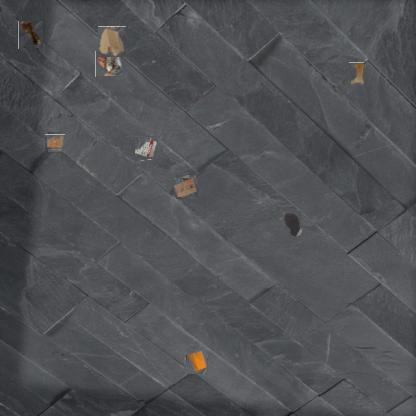dirty: (98, 26, 126, 57), (95, 52, 122, 78), (18, 22, 43, 50), (134, 137, 158, 160), (185, 351, 208, 374), (175, 176, 197, 198), (47, 133, 64, 151)
liquid: (282, 211, 302, 237), (348, 62, 364, 85)
